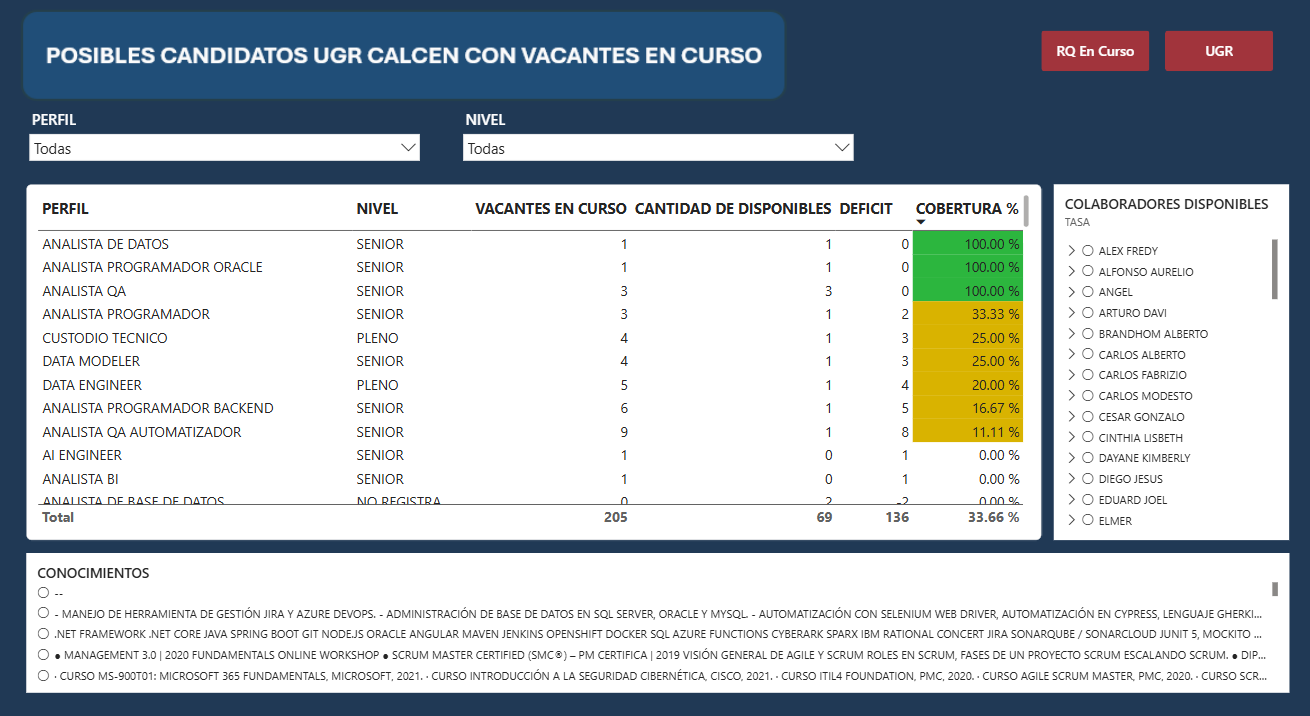

What the dashboard file says about the page in this screenshot:
{"tool":"powerbi","page":{"name":"Oferta VS Demanda AT","canvas":[1920,1080],"ordinal":2},"visuals":[{"type":"tableEx","fields":{"Values":["DimPerfil.Perfil","DimPerfil.Nivel","Tabla1.RQ en curso","Disponibilidad.Colaboradores disponibles","DimPerfil.Déficit","DimPerfil.Cobertura %"]},"box":[45.4,290.7,1469.5,515.6],"z":0},{"type":"listSlicer","fields":{"Values":["Disponibilidad.NOMBRE EMPLEADO","Disponibilidad.TASA"]},"box":[1533.1,290.7,340.7,515.6],"z":1000},{"type":"slicer","fields":{"Values":["DimPerfil.Perfil"]},"box":[45.5,182.6,574.6,81.8],"z":2000},{"type":"slicer","fields":{"Values":["DimPerfil.NIVEL"]},"box":[672.4,182.6,574.6,81.8],"z":3000},{"type":"listSlicer","fields":{"Values":["Disponibilidad.CONOCIMIENTOS"]},"box":[45.4,824.5,1828.4,202.1],"z":4000},{"type":"actionButton","box":[1515,68.1,156.7,59.1],"z":5000},{"type":"actionButton","box":[1694.4,68.1,156.7,59.1],"z":6000}]}

Visuals, with their boxes in screenshot pixels (x1, y1, x2, y2), scaled from the page's 1920x1080 canvas onto the 1310x716 screenshot:
tableEx - DimPerfil.Perfil x DimPerfil.Nivel: bbox(31, 193, 1034, 535)
listSlicer - Disponibilidad.NOMBRE EMPLEADO x Disponibilidad.TASA: bbox(1046, 193, 1278, 535)
slicer - DimPerfil.Perfil: bbox(31, 121, 423, 175)
slicer - DimPerfil.NIVEL: bbox(459, 121, 851, 175)
listSlicer - Disponibilidad.CONOCIMIENTOS: bbox(31, 547, 1278, 681)
actionButton: bbox(1034, 45, 1141, 84)
actionButton: bbox(1156, 45, 1263, 84)
